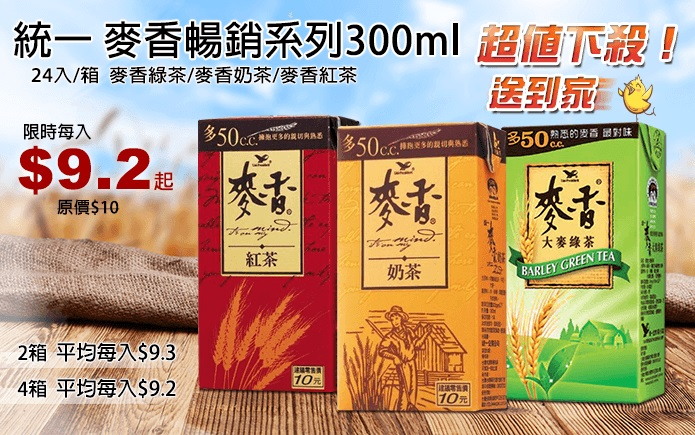milk tea: (336, 124, 509, 412)
